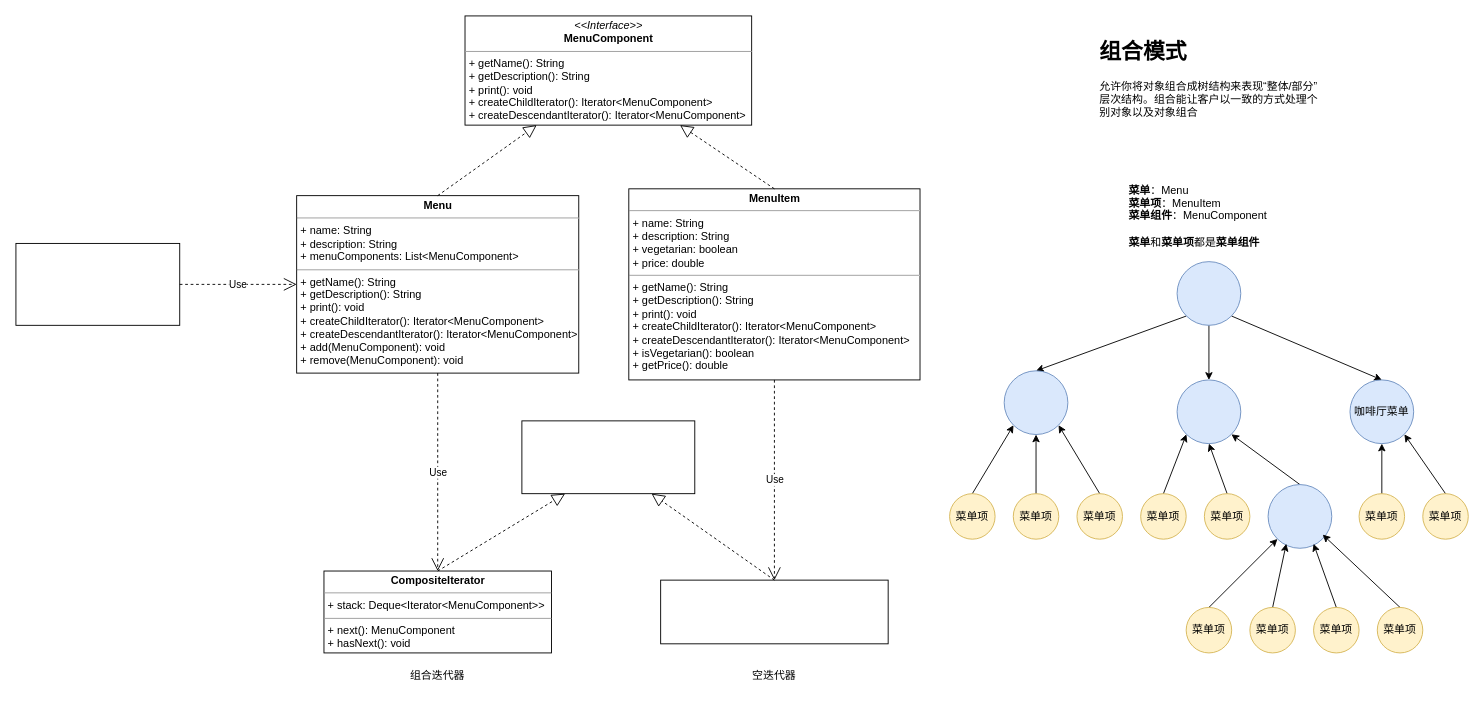
Some shapes in this 1484 by 705 pixel diagram are drawn without their labels. The centre of each missing label's shape, as x and y in pixels:
<<Interface>> Iterator<E> + hasNext(): boolean + next(): E: pixel 608 457
NullIterator + next(): MenuComponent + hasNext(): void: pixel 774 611
Waitress + allMenus: Menu + printMenu(): void + printVegetarianMenu(): void: pixel 97 284
所有菜单: pixel 1208 293
煎饼房菜单: pixel 1035 402
甜点菜单: pixel 1299 516
餐厅菜单: pixel 1208 411
